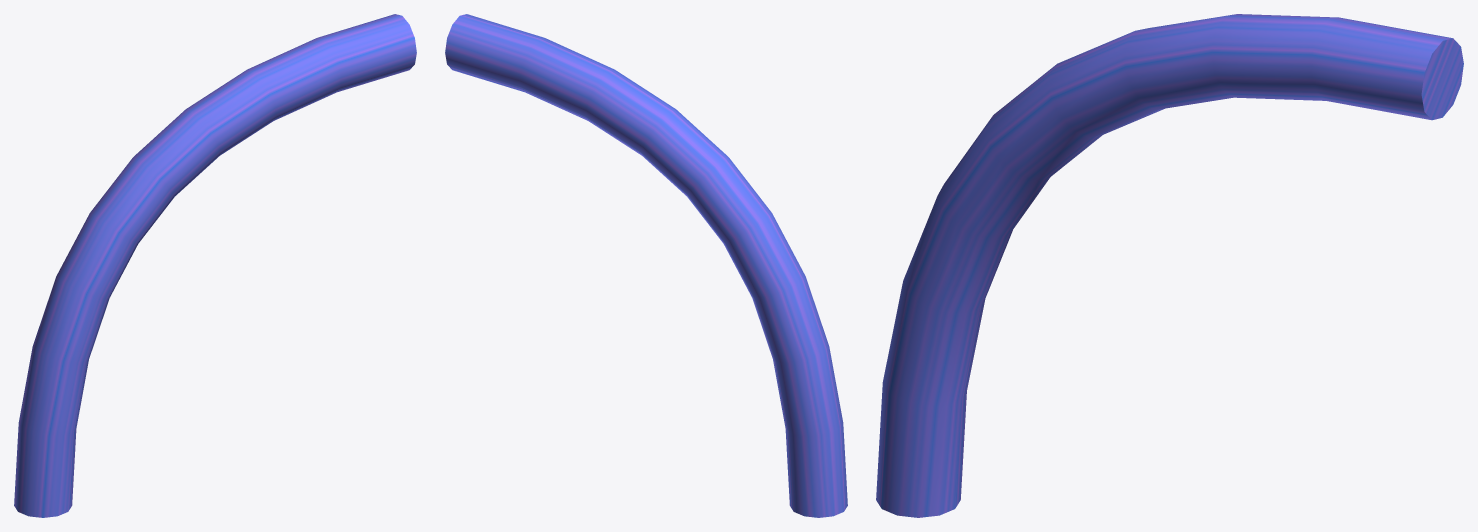
The model's file is PipeEdge.glb.
3 renders of one model, left to right at view 1: azimuth 30°, elevation 25°; view 2: azimuth 150°, elevation 25°; view 3: azimuth 330°, elevation 25°, orthographic. The views are drawn at different scales.
Visible parts, largest first — view 1: NurbsPath; view 2: NurbsPath; view 3: NurbsPath.
Boxes of the visible parts, left/top/right/bottom form: NurbsPath: left=14, top=14, right=416, bottom=517; NurbsPath: left=445, top=14, right=847, bottom=517; NurbsPath: left=876, top=14, right=1463, bottom=517.
Size of the model in its own units: 1.07 by 1.07 by 0.14.
Materials: 1 (1 with a texture image).
